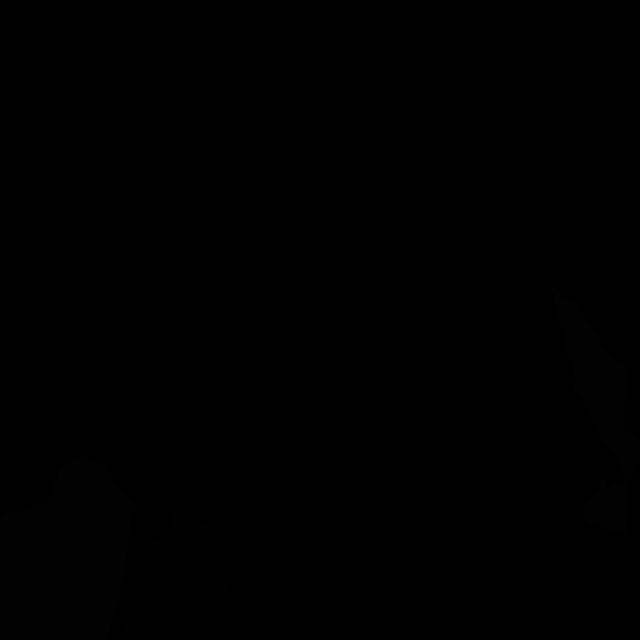cardboard: (0, 455, 137, 640), (548, 278, 640, 535)
rigid_plastic: (119, 502, 237, 639)
